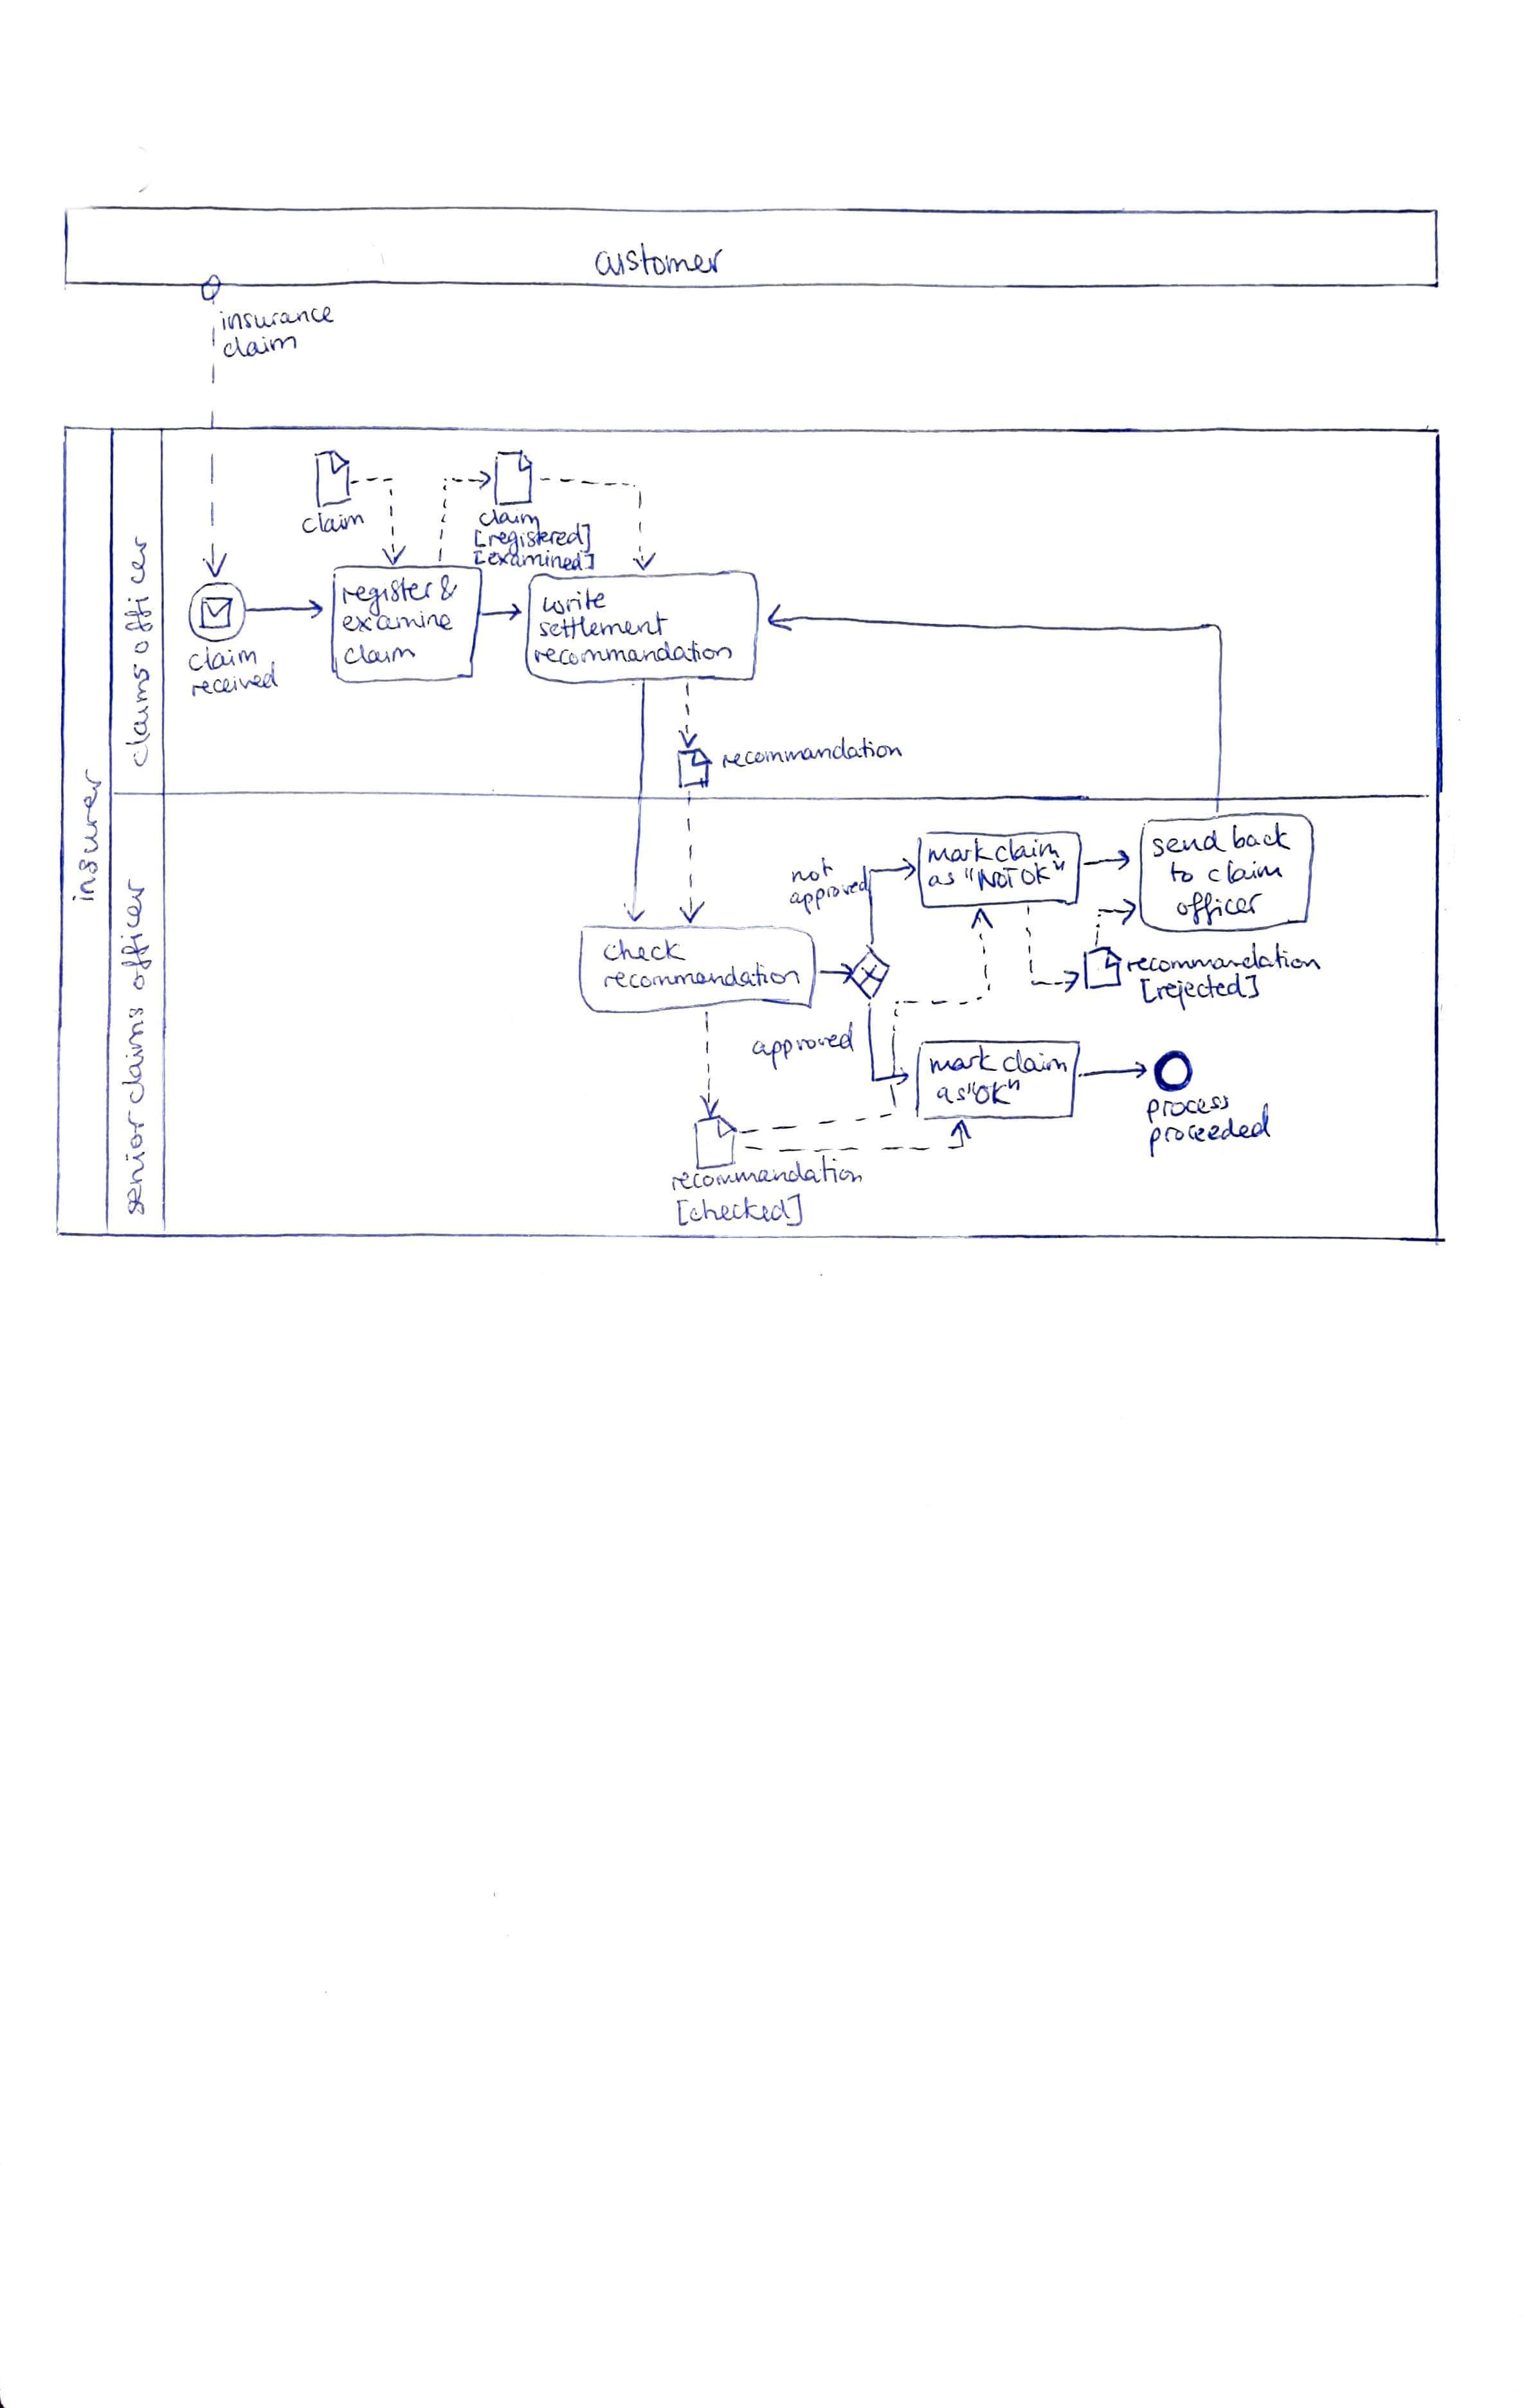&: (437, 570, 460, 604)
NOT: (961, 864, 1023, 895)
OK: (965, 1074, 1024, 1109), (1017, 856, 1068, 890)
[checked]: (674, 1188, 809, 1230)
[examined]: (468, 546, 598, 576)
[registered]: (470, 520, 595, 560)
[rejected]: (1137, 969, 1265, 1014)
approved: (747, 1016, 858, 1074), (786, 862, 872, 920)
as: (933, 1083, 970, 1109), (924, 869, 959, 892)
back: (1228, 818, 1294, 856)
check: (598, 934, 689, 967)
claim: (1203, 856, 1287, 888), (182, 642, 261, 676), (219, 332, 302, 363), (998, 1044, 1072, 1078), (991, 834, 1065, 867), (339, 641, 421, 669), (296, 507, 368, 537), (475, 504, 544, 534)
claims: (119, 658, 154, 772), (116, 1002, 151, 1107)
customer: (591, 239, 728, 281)
examine: (337, 607, 458, 635)
insurance: (216, 302, 339, 335)
insurer: (65, 763, 107, 907)
mark: (924, 1041, 1002, 1079), (923, 834, 996, 867)
not: (788, 853, 837, 886)
officer: (116, 874, 156, 995), (119, 532, 158, 658), (1172, 888, 1266, 930)
proceeded: (1144, 1099, 1275, 1164)
process: (1142, 1092, 1235, 1129)
received: (186, 658, 282, 704)
recommandation: (668, 1150, 868, 1197), (719, 734, 907, 776), (1123, 939, 1326, 978), (600, 957, 805, 993), (530, 637, 737, 669)
register: (337, 574, 437, 621)
send: (1147, 827, 1231, 862)
senior: (121, 1106, 149, 1222)
settlement: (533, 606, 672, 642)
to: (1166, 856, 1198, 888)
write: (540, 583, 610, 618)
